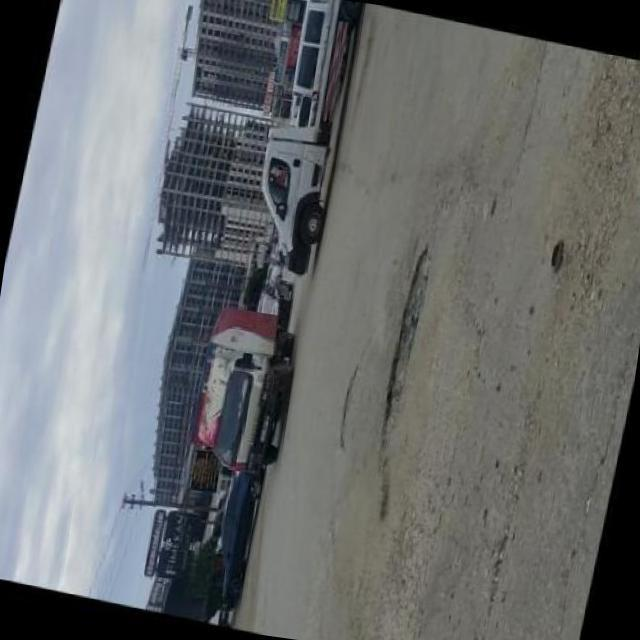Pothole: (382, 246, 430, 431)
